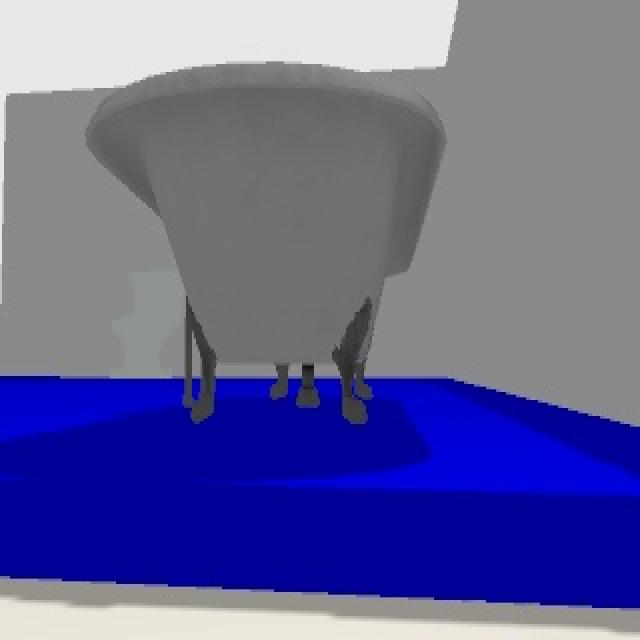bathtub: (84, 69, 450, 424)
